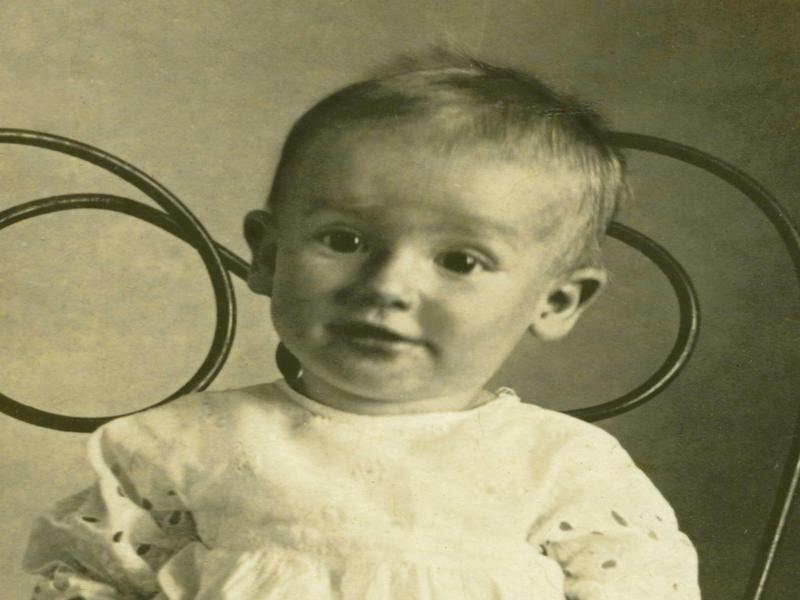person: (39, 58, 703, 600)
